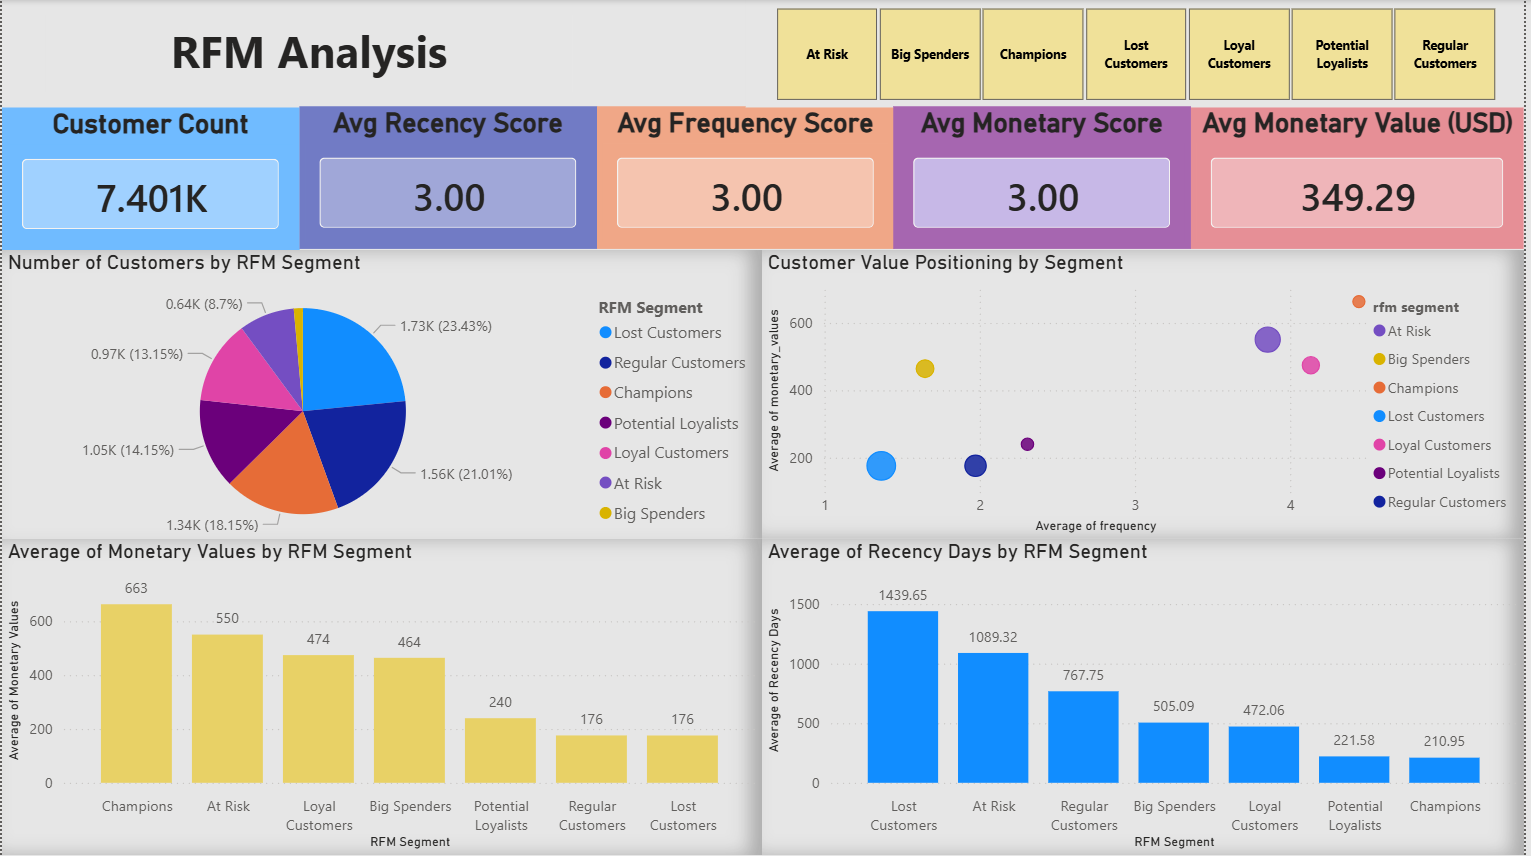

This screenshot's page, from the dashboard's own definition file:
{"tool":"powerbi","page":{"name":"Page 3","canvas":[1280,720],"ordinal":2},"visuals":[{"type":"textbox","box":[37.2,12.8,443,65.1],"z":0},{"type":"cardVisual","title":"Customer Count","fields":{"Data":["Count(rfm_analysis.customer_id)"]},"box":[0,90.4,250,120],"z":1000},{"type":"cardVisual","title":"Avg Recency Score","fields":{"Data":["Avg(rfm_analysis.recency_score)"]},"box":[250,89.5,250,119.8],"z":2000},{"type":"cardVisual","title":"Avg Frequency Score","fields":{"Data":["Avg(rfm_analysis.frequency_score)"]},"box":[500,89.5,250,119.8],"z":3000},{"type":"cardVisual","title":"Avg Monetary Value (USD)","fields":{"Data":["Avg(rfm_analysis.monetary_values)"]},"box":[1000,89.5,280.2,119.8],"z":4000},{"type":"slicer","fields":{"Values":["rfm_analysis.rfm_segment"]},"box":[625.6,0,654.7,90.7],"z":5000},{"type":"pieChart","fields":{"Category":["rfm_analysis.rfm_segment"],"Y":["CountNonNull(rfm_analysis.customer_id)"]},"box":[0,210.5,639.5,252.3],"z":6000},{"type":"columnChart","fields":{"Y":["Avg(rfm_analysis.monetary_values)"],"Category":["rfm_analysis.rfm_segment"]},"box":[0,453.5,639.5,266.3],"z":7000},{"type":"scatterChart","title":"Customer Value Positioning by Segment","fields":{"Series":["rfm_analysis.rfm_segment"],"X":["Avg(rfm_analysis.frequency)"],"Y":["Avg(rfm_analysis.monetary_values)"],"Size":["Avg(rfm_analysis.recency_days)"]},"box":[639.5,210.5,640.7,243],"z":8000},{"type":"columnChart","fields":{"Y":["Avg(rfm_analysis.recency_days)"],"Category":["rfm_analysis.rfm_segment"]},"box":[639.5,453.5,640.7,266.3],"z":9000},{"type":"cardVisual","title":"Avg Monetary Score","fields":{"Data":["Avg(rfm_analysis.monetary_score)"]},"box":[750,89.5,250,119.8],"z":9001}]}

Visuals, with their boxes in screenshot pixels (x1, y1, x2, y2), scaled from the page's 1280x720 canvas onto the 1531x856 screenshot:
textbox: x1=44, y1=15, x2=574, y2=93
"Customer Count" cardVisual: x1=0, y1=107, x2=299, y2=250
"Avg Recency Score" cardVisual: x1=299, y1=106, x2=598, y2=249
"Avg Frequency Score" cardVisual: x1=598, y1=106, x2=897, y2=249
"Avg Monetary Value (USD)" cardVisual: x1=1196, y1=106, x2=1530, y2=249
slicer - rfm_analysis.rfm_segment: x1=748, y1=0, x2=1530, y2=108
pieChart - rfm_analysis.rfm_segment x CountNonNull(rfm_analysis.customer_id): x1=0, y1=250, x2=765, y2=550
columnChart - Avg(rfm_analysis.monetary_values) x rfm_analysis.rfm_segment: x1=0, y1=539, x2=765, y2=855
"Customer Value Positioning by Segment" scatterChart: x1=765, y1=250, x2=1530, y2=539
columnChart - Avg(rfm_analysis.recency_days) x rfm_analysis.rfm_segment: x1=765, y1=539, x2=1530, y2=855
"Avg Monetary Score" cardVisual: x1=897, y1=106, x2=1196, y2=249
